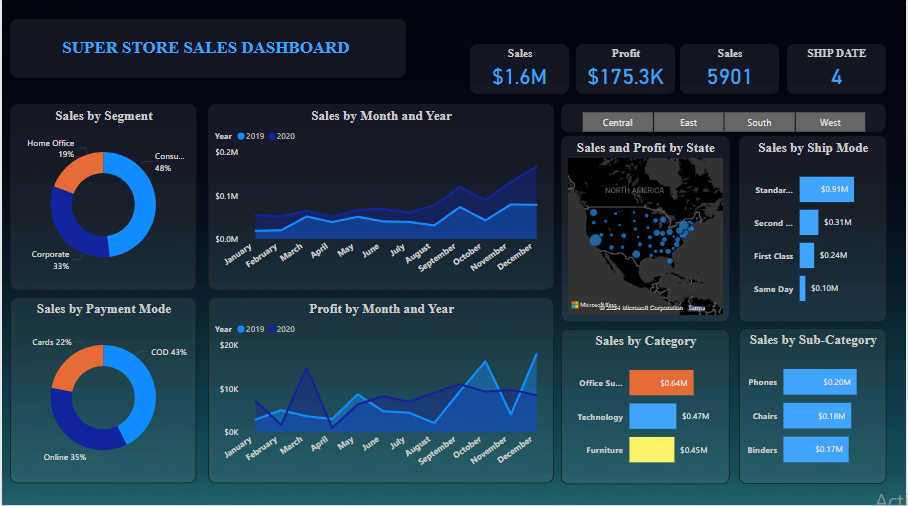

This screenshot's page, from the dashboard's own definition file:
{"tool":"powerbi","page":{"name":"Page 1","canvas":[1280,720],"ordinal":0},"visuals":[{"type":"clusteredBarChart","title":"Sales by Category","fields":{"Category":["SuperStore_Sales_Dataset.Category"],"Y":["Sum(SuperStore_Sales_Dataset.Sales)"]},"box":[792.9,467.1,238.6,220],"z":0},{"type":"clusteredBarChart","title":"Sales by Sub-Category","fields":{"Category":["SuperStore_Sales_Dataset.Sub-Category"],"Y":["Sum(SuperStore_Sales_Dataset.Sales)"]},"box":[1044.3,465.7,208.6,221.4],"z":1000},{"type":"clusteredBarChart","title":"Sales by Ship Mode","fields":{"Y":["Sum(SuperStore_Sales_Dataset.Sales)"],"Category":["SuperStore_Sales_Dataset.Ship Mode"]},"box":[1044.3,194.3,208.6,264.3],"z":2000},{"type":"areaChart","title":"Sales by Month and Year","fields":{"Category":["SuperStore_Sales_Dataset.Order Date.Variation.Date Hierarchy.Month","SuperStore_Sales_Dataset.Order Date.Variation.Date Hierarchy.Day"],"Y":["Sum(SuperStore_Sales_Dataset.Sales)"],"Series":["SuperStore_Sales_Dataset.Order Date.Variation.Date Hierarchy.Year"]},"box":[291.4,148.6,490,264.3],"z":3000},{"type":"areaChart","title":"Profit by Month and Year","fields":{"Category":["SuperStore_Sales_Dataset.Order Date.Variation.Date Hierarchy.Month","SuperStore_Sales_Dataset.Order Date.Variation.Date Hierarchy.Day"],"Series":["SuperStore_Sales_Dataset.Order Date.Variation.Date Hierarchy.Year"],"Y":["Sum(SuperStore_Sales_Dataset.Profit)"]},"box":[291.4,422.9,490,264.3],"z":4000},{"type":"map","title":"Sales and Profit by State","fields":{"Category":["SuperStore_Sales_Dataset.State"],"Size":["Sum(SuperStore_Sales_Dataset.Sales)"]},"box":[792.9,194.3,238.6,264.3],"z":5000},{"type":"donutChart","title":"Sales by Segment","fields":{"Category":["SuperStore_Sales_Dataset.Segment"],"Y":["Sum(SuperStore_Sales_Dataset.Sales)"]},"box":[11.4,148.6,264.3,264.3],"z":6000},{"type":"donutChart","title":"Sales by Payment Mode","fields":{"Y":["Sum(SuperStore_Sales_Dataset.Sales)"],"Category":["SuperStore_Sales_Dataset.Payment Mode"]},"box":[11.4,422.9,264.3,264.3],"z":7000},{"type":"slicer","title":"Region","fields":{"Values":["SuperStore_Sales_Dataset.Region"]},"box":[792.9,148.6,460,40],"z":8000},{"type":"card","title":"Sales","fields":{"Values":["Sum(SuperStore_Sales_Dataset.Sales)"]},"box":[662.9,64.3,140,71.4],"z":9000},{"type":"card","title":"Profit","fields":{"Values":["Sum(SuperStore_Sales_Dataset.Profit)"]},"box":[812.9,64.3,140,71.4],"z":10000},{"type":"card","title":"Sales","fields":{"Values":["CountNonNull(SuperStore_Sales_Dataset.Order ID)"]},"box":[961.4,64.3,140,71.4],"z":11000},{"type":"card","title":"SHIP DATE","fields":{"Values":["Avg(SuperStore_Sales_Dataset.AvgDelivery)"]},"box":[1112.9,64.3,140,71.4],"z":12000},{"type":"textbox","box":[11.4,28.6,561.4,82.9],"z":13000}]}

Visuals, with their boxes in screenshot pixels (x1, y1, x2, y2), scaled from the page's 1280x720 canvas onto the 908x506 screenshot:
"Sales by Category" clusteredBarChart: 562, 328, 732, 483
"Sales by Sub-Category" clusteredBarChart: 741, 327, 889, 483
"Sales by Ship Mode" clusteredBarChart: 741, 137, 889, 322
"Sales by Month and Year" areaChart: 207, 104, 554, 290
"Profit by Month and Year" areaChart: 207, 297, 554, 483
"Sales and Profit by State" map: 562, 137, 732, 322
"Sales by Segment" donutChart: 8, 104, 196, 290
"Sales by Payment Mode" donutChart: 8, 297, 196, 483
"Region" slicer: 562, 104, 889, 133
"Sales" card: 470, 45, 570, 95
"Profit" card: 577, 45, 676, 95
"Sales" card: 682, 45, 781, 95
"SHIP DATE" card: 789, 45, 889, 95
textbox: 8, 20, 406, 78
